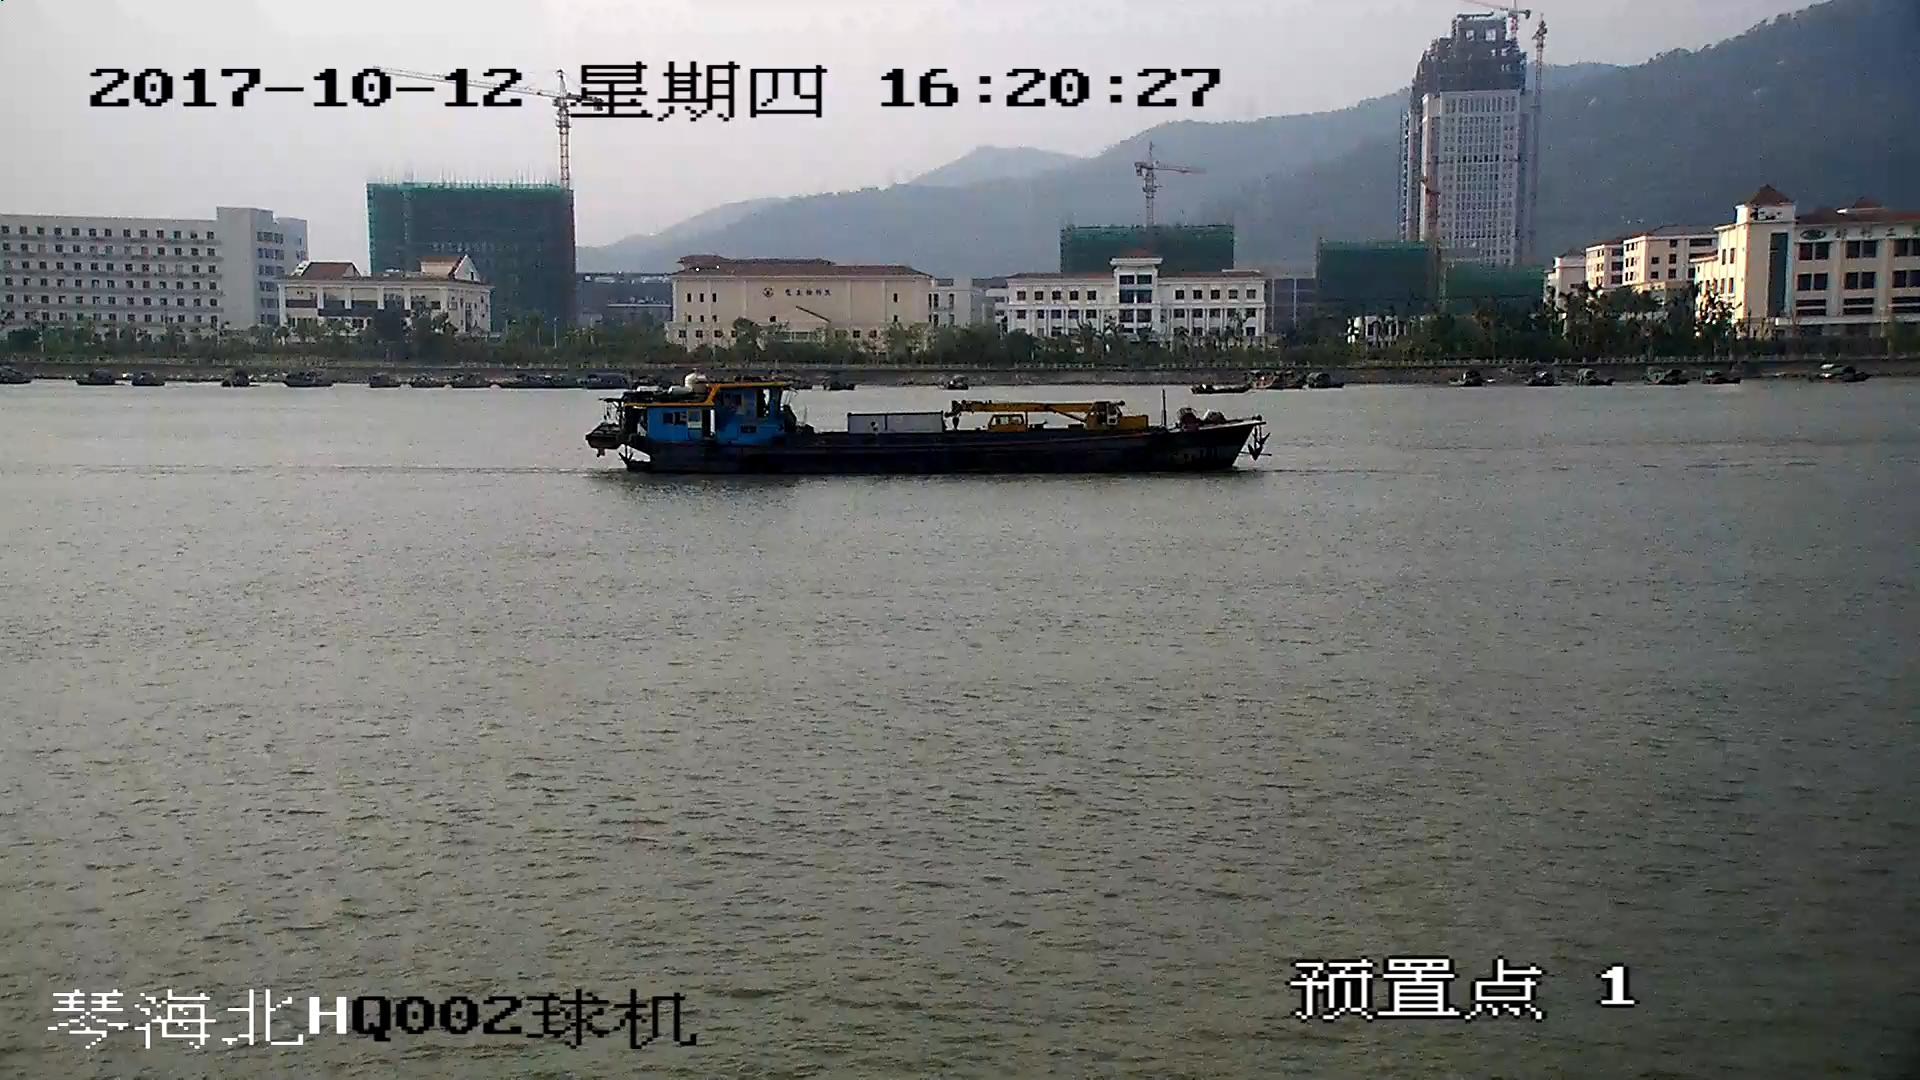fishing boat: (589, 375, 1266, 475)
